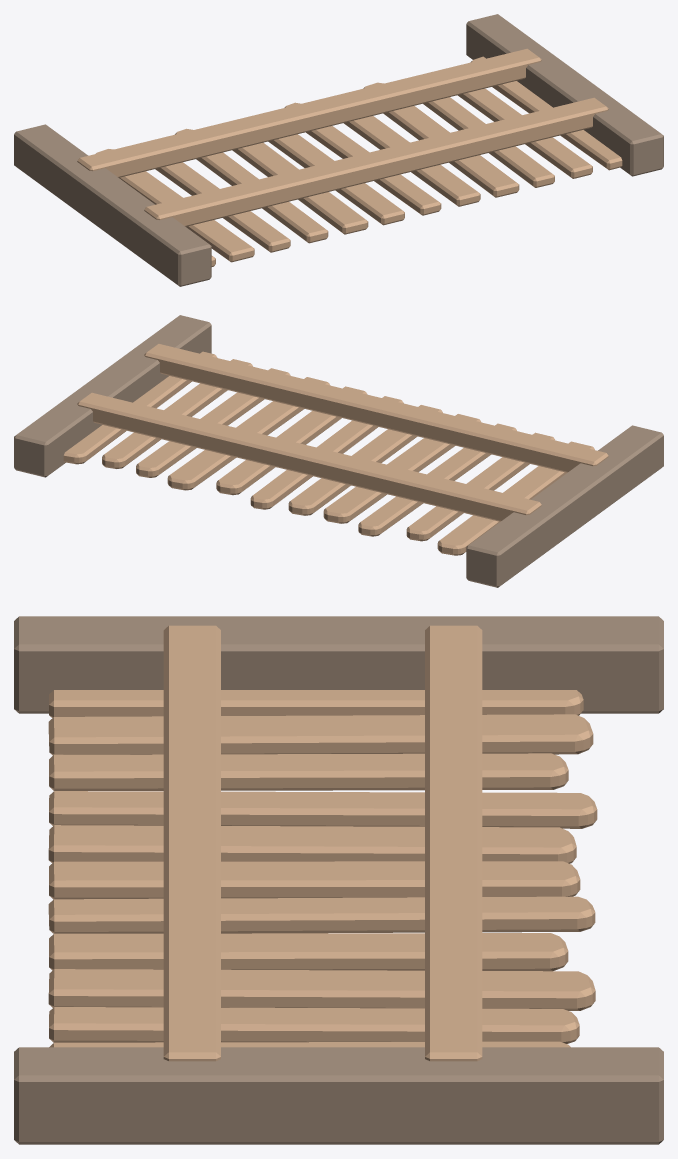
The model's file is Podlasie_Picket_Fence.fbx.
3 views of the same model, one above another, from view 1: azimuth 30°, elevation 25°; view 2: azimuth 150°, elevation 25°; view 3: azimuth 270°, elevation 25° (orthographic). The views are drawn at different scales.
Visible parts, largest first — view 1: Fence_Rail_0, Fence_Rail_1, Fence_Post_0, Fence_Post_1, Fence_Picket_08, Fence_Picket_04, Fence_Picket_05, Fence_Picket_07, Fence_Picket_01, Fence_Picket_02, Fence_Picket_10, Fence_Picket_03 (+3 smaller); view 2: Fence_Rail_1, Fence_Rail_0, Fence_Post_0, Fence_Post_1, Fence_Picket_08, Fence_Picket_04, Fence_Picket_05, Fence_Picket_01, Fence_Picket_03, Fence_Picket_07, Fence_Picket_06, Fence_Picket_09 (+3 smaller); view 3: Fence_Post_1, Fence_Post_0, Fence_Rail_1, Fence_Rail_0, Fence_Picket_01, Fence_Picket_08, Fence_Picket_05, Fence_Picket_06, Fence_Picket_03, Fence_Picket_07, Fence_Picket_02, Fence_Picket_04 (+3 smaller).
Boxes of the visible parts, x1=… form: Fence_Rail_0: x1=144, y1=97, x2=608, y2=226; Fence_Rail_1: x1=77, y1=48, x2=541, y2=177; Fence_Post_0: x1=14, y1=124, x2=211, y2=286; Fence_Post_1: x1=466, y1=14, x2=663, y2=176; Fence_Picket_08: x1=363, y1=82, x2=519, y2=197; Fence_Picket_04: x1=232, y1=142, x2=368, y2=234; Fence_Picket_05: x1=268, y1=134, x2=404, y2=225; Fence_Picket_07: x1=343, y1=116, x2=480, y2=206; Fence_Picket_01: x1=96, y1=149, x2=254, y2=262; Fence_Picket_02: x1=155, y1=162, x2=290, y2=252; Fence_Picket_10: x1=458, y1=88, x2=592, y2=178; Fence_Picket_03: x1=175, y1=128, x2=328, y2=243; Fence_Rail_1: x1=77, y1=392, x2=541, y2=521; Fence_Rail_0: x1=144, y1=344, x2=608, y2=472; Fence_Post_0: x1=466, y1=425, x2=663, y2=587; Fence_Post_1: x1=14, y1=315, x2=211, y2=477; Fence_Picket_08: x1=167, y1=377, x2=330, y2=490; Fence_Picket_04: x1=323, y1=414, x2=480, y2=523; Fence_Picket_05: x1=288, y1=405, x2=442, y2=515; Fence_Picket_01: x1=437, y1=441, x2=594, y2=555; Fence_Picket_03: x1=358, y1=423, x2=516, y2=536; Fence_Picket_07: x1=216, y1=386, x2=367, y2=495; Fence_Picket_06: x1=250, y1=396, x2=403, y2=509; Fence_Picket_09: x1=136, y1=368, x2=290, y2=477; Fence_Post_1: x1=14, y1=1047, x2=663, y2=1144; Fence_Post_0: x1=14, y1=616, x2=663, y2=713; Fence_Rail_1: x1=425, y1=625, x2=482, y2=1061; Fence_Rail_0: x1=163, y1=625, x2=220, y2=1061; Fence_Picket_01: x1=48, y1=714, x2=593, y2=755; Fence_Picket_08: x1=48, y1=969, x2=595, y2=1010; Fence_Picket_05: x1=49, y1=861, x2=580, y2=899; Fence_Picket_06: x1=48, y1=896, x2=595, y2=933; Fence_Picket_03: x1=49, y1=791, x2=597, y2=828; Fence_Picket_07: x1=49, y1=933, x2=568, y2=971; Fence_Picket_02: x1=49, y1=753, x2=568, y2=790; Fence_Picket_04: x1=48, y1=825, x2=576, y2=863.
Bounding box in the file's own units: 1.72 × 0.132 × 1.02.
